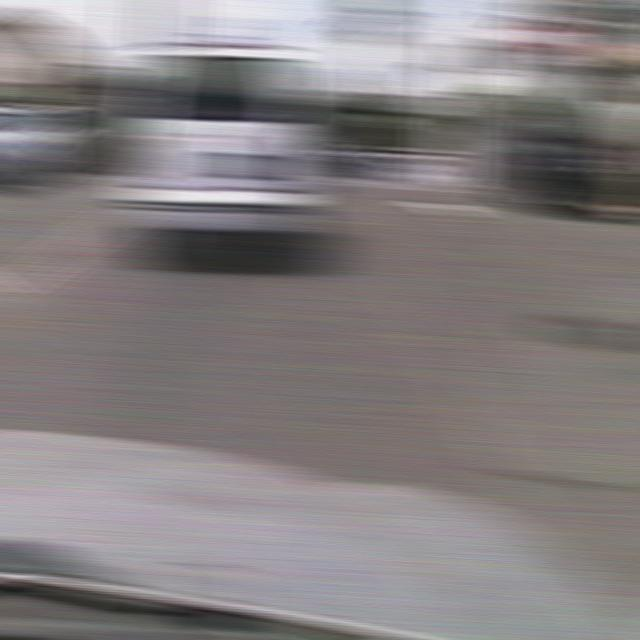stop_sign: (526, 15, 579, 58)
